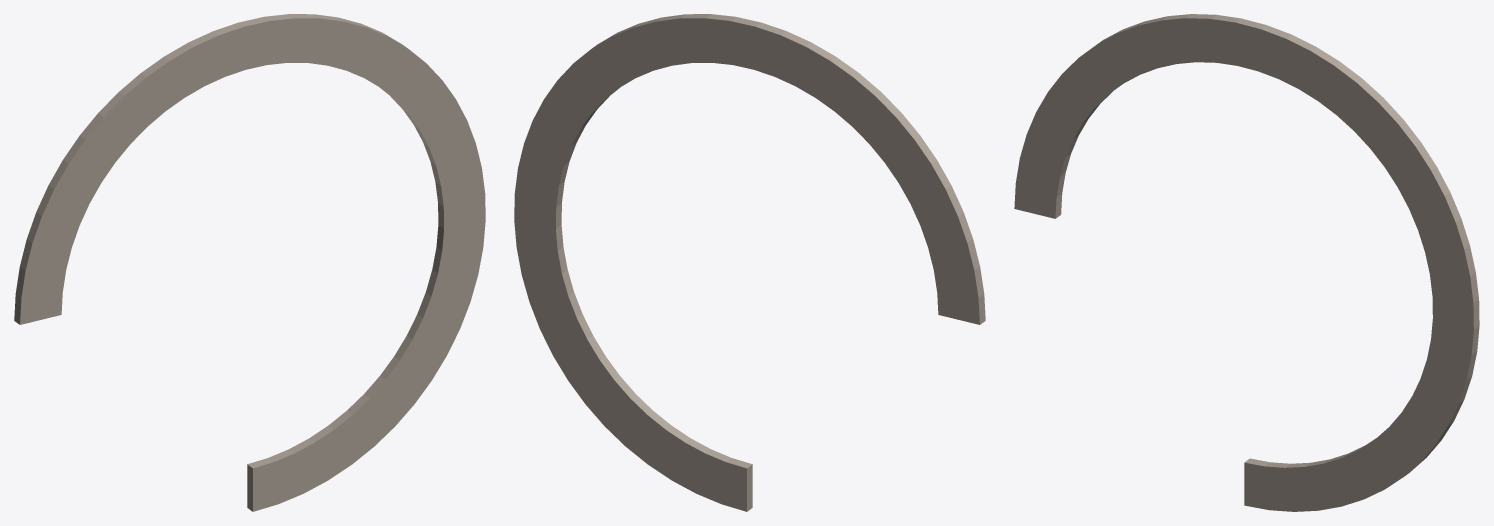
Rendered from tps-resistance-track.glb.
The picture shows the model from 3 angles, left to right: view 1: azimuth 30°, elevation 25°; view 2: azimuth 150°, elevation 25°; view 3: azimuth 330°, elevation 25°; orthographic projection.
Parts seen in each view (by area): view 1: world; view 2: world; view 3: world.
Part boxes in pixels (x1=…): world: x1=14, y1=14, x2=485, y2=511; world: x1=514, y1=14, x2=985, y2=511; world: x1=1014, y1=14, x2=1479, y2=511.
Bounding box in the file's own units: 0.028 × 0.028 × 0.0006.
